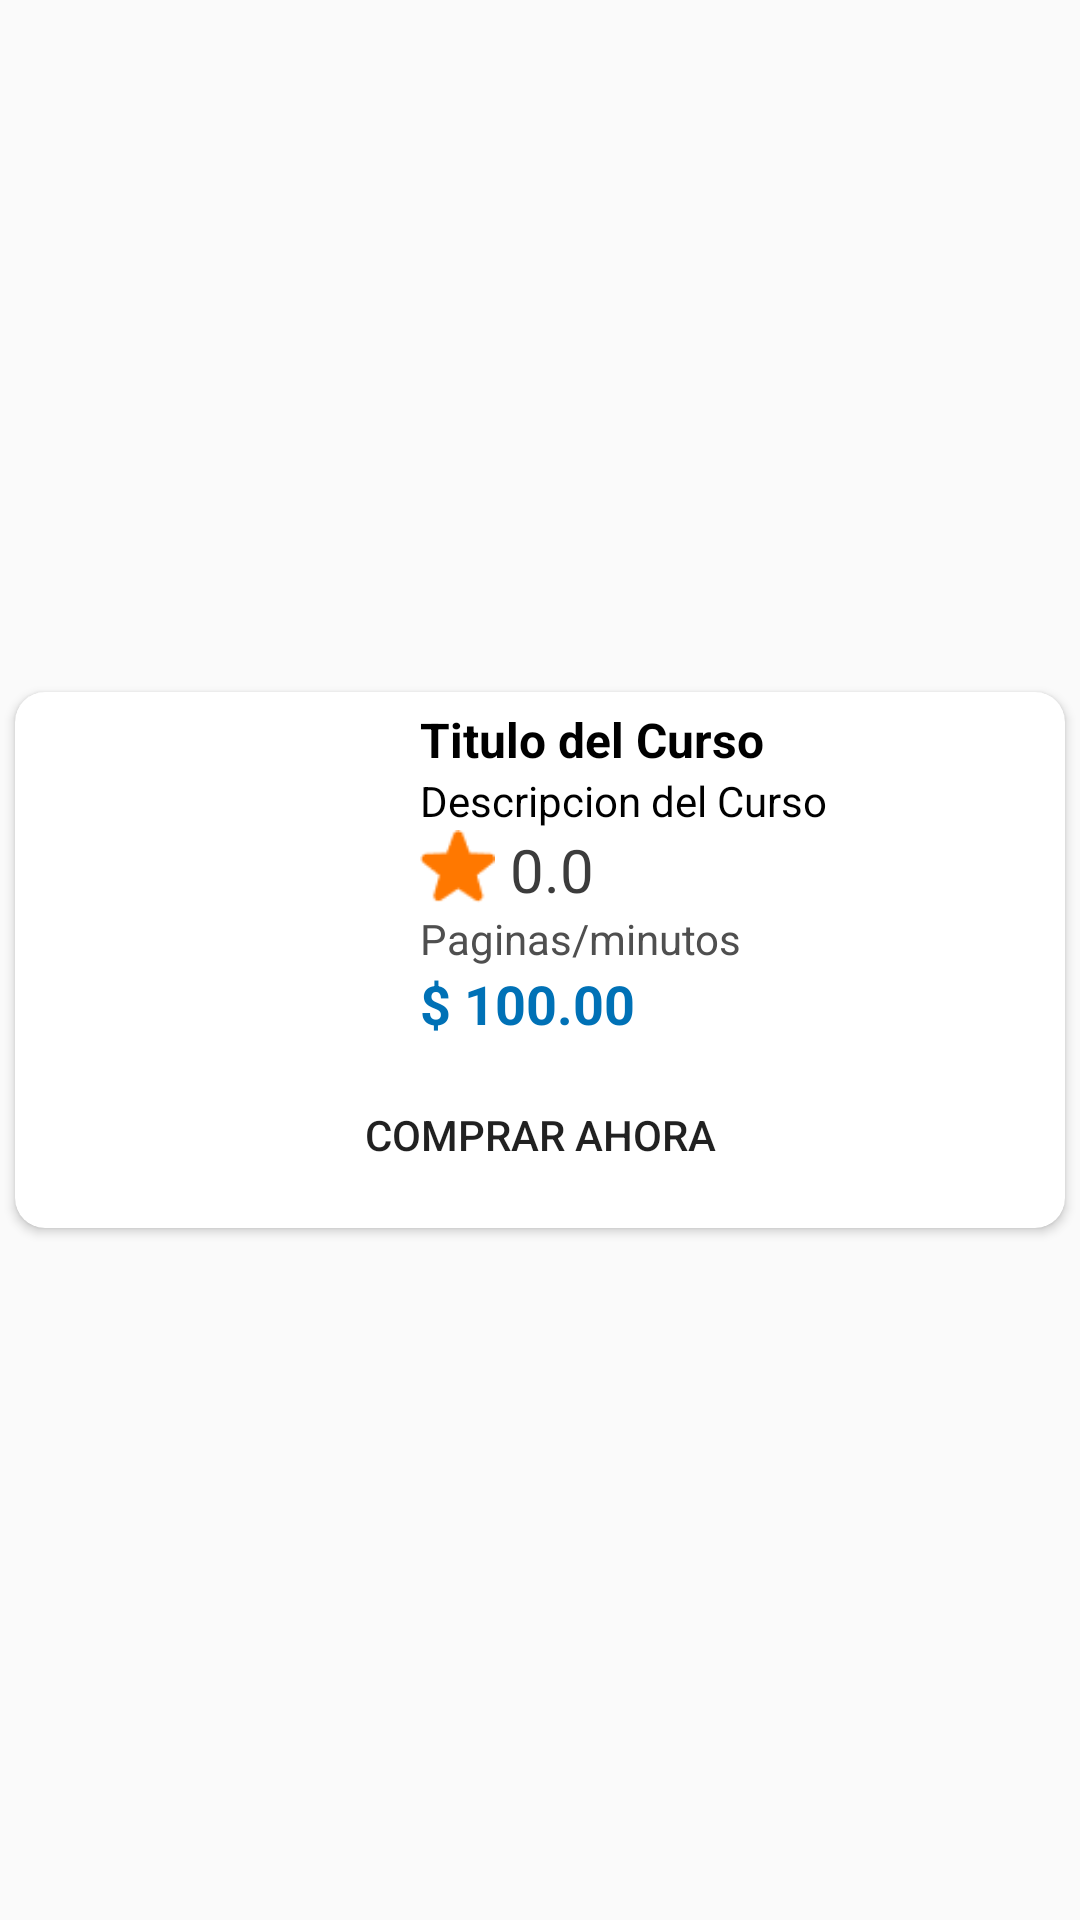

Screen size 1080w x 1920h. Icon name, then its box in pixels as bbox(x1, y1, x2, y2):
star: bbox(420, 830, 495, 902)
